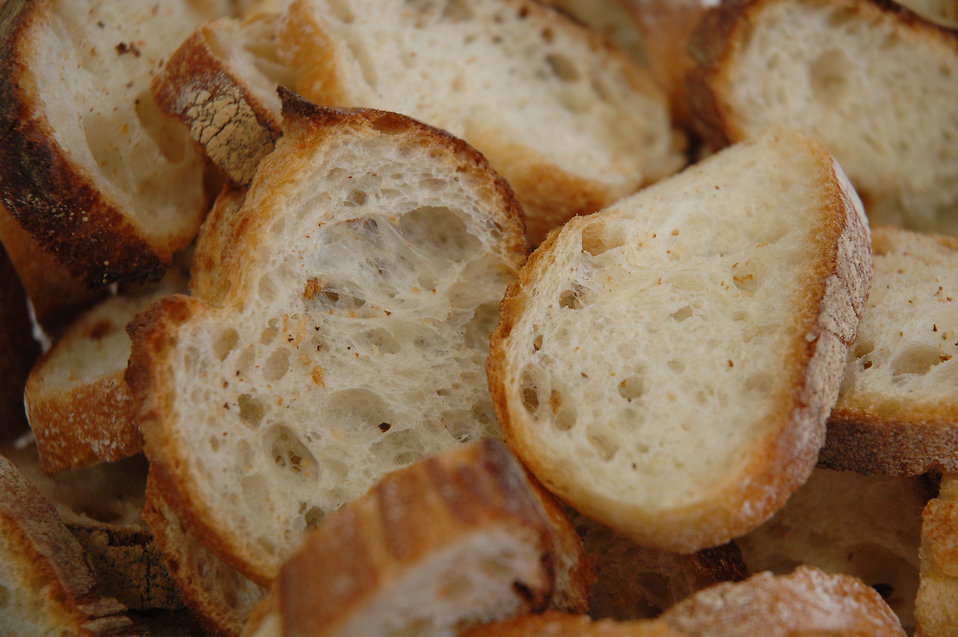slice of bread: (129, 85, 546, 573), (494, 115, 848, 556)
